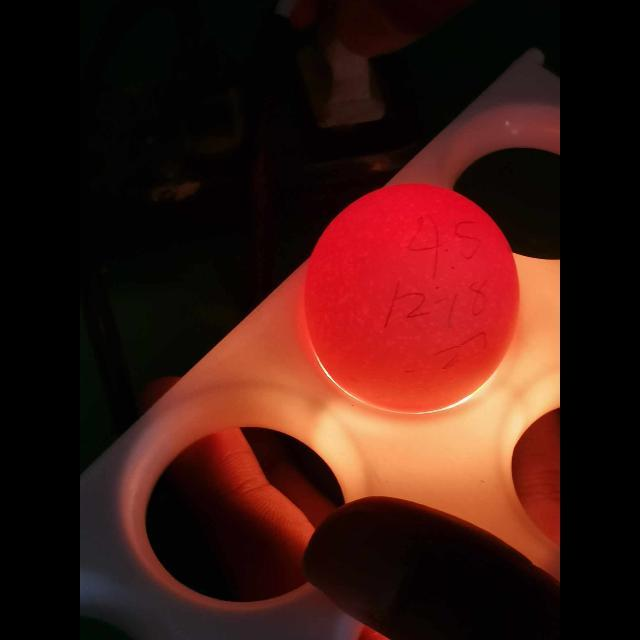Infertile: (312, 185, 520, 399)
